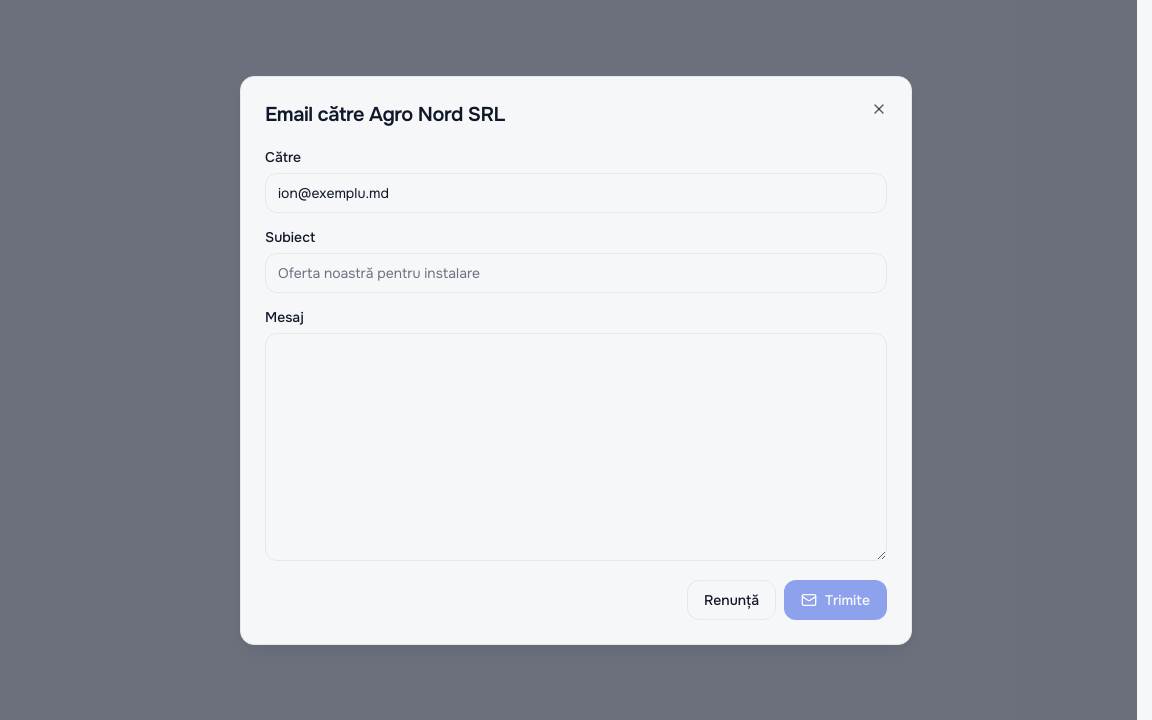
trimiterea unui email › [blocant] chiar și când nu pleacă, omul e asigurat că a rămas urmă
Type "S" into the field labelled "Subiect" at [576, 272], box 265,252 -> 887,292
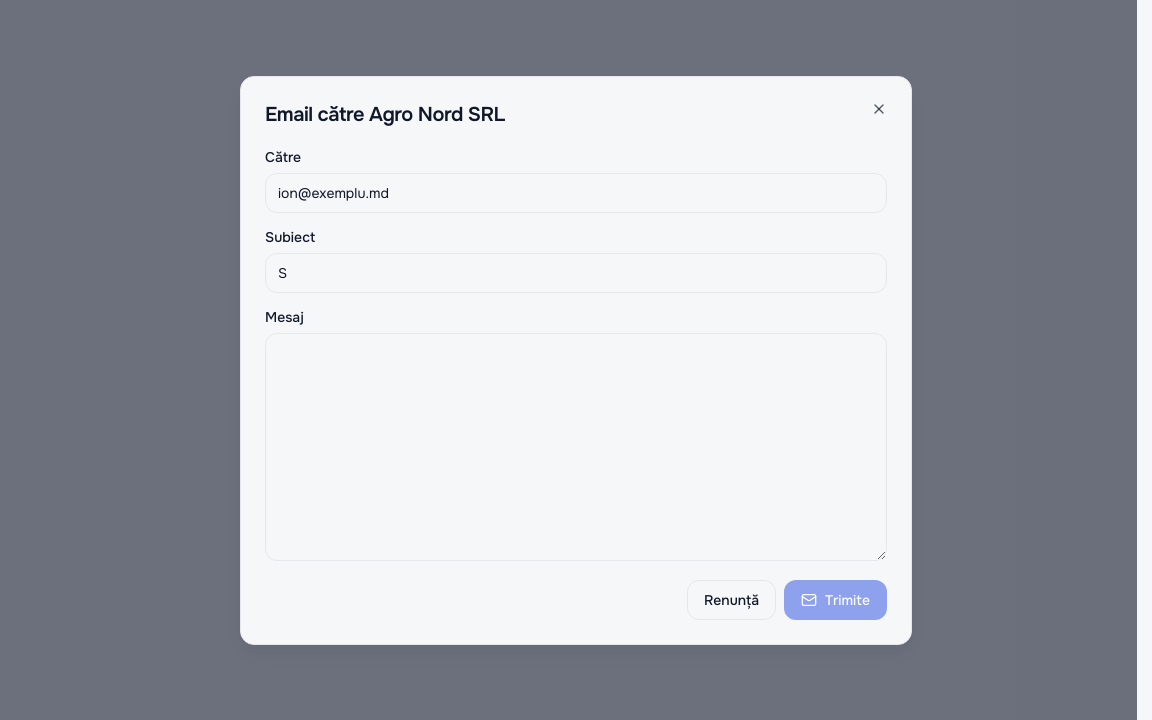
Type "B" into the text box labelled "Mesaj" at [576, 446], box 265,332 -> 887,560
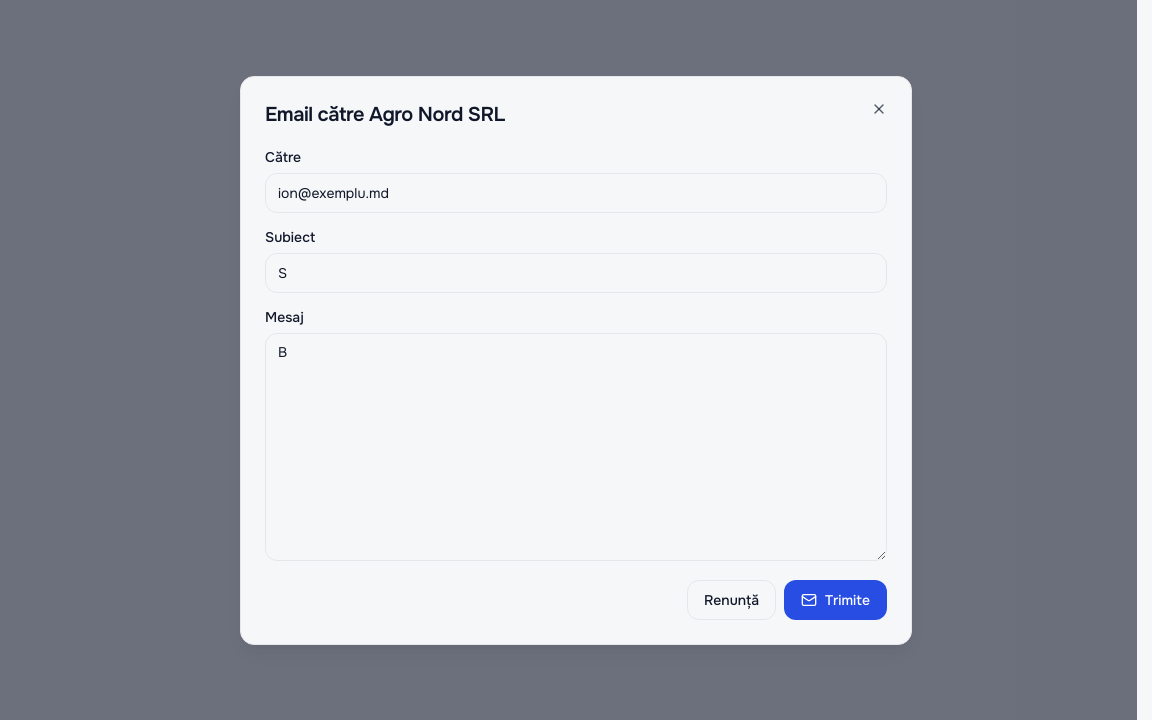
Click the button "Trimite" at [836, 600], box 784,580 -> 887,620
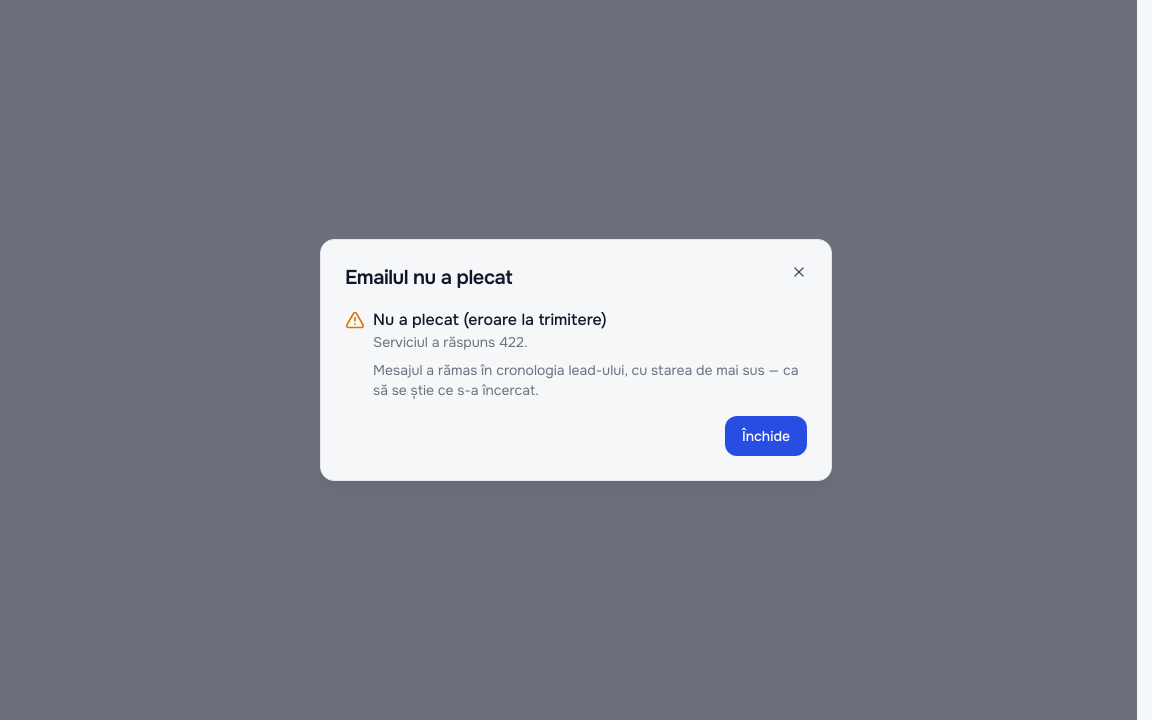
Check: the text "a rămas în cronologia lead-ului" is shown, box 373,361 -> 798,399
